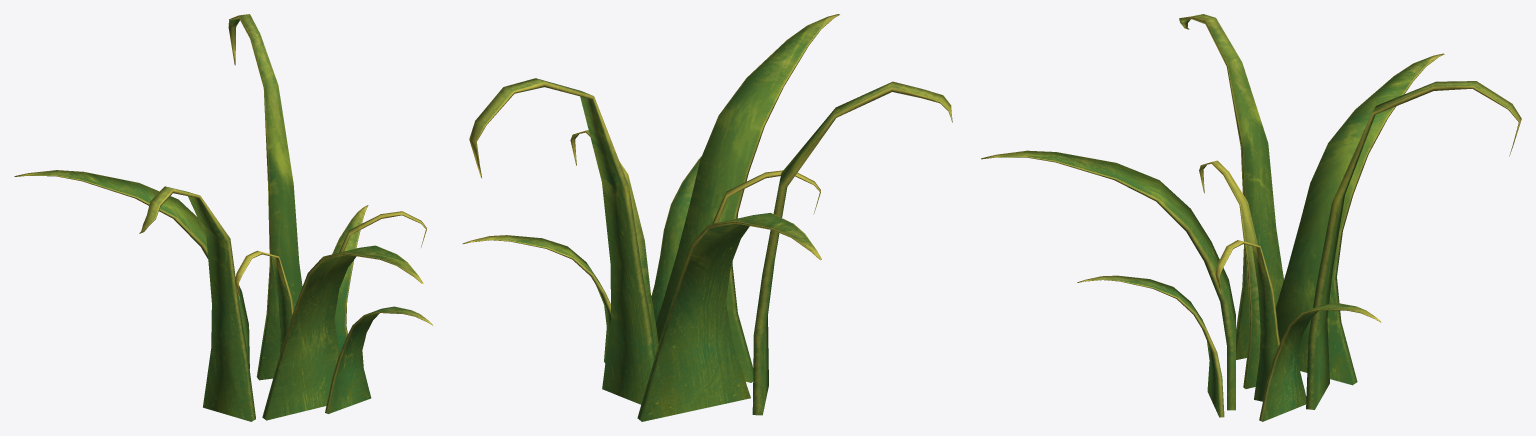
Rendered from Grassthreads.fbx.
The picture shows the model from 3 angles, left to right: view 1: azimuth 30°, elevation 25°; view 2: azimuth 150°, elevation 25°; view 3: azimuth 270°, elevation 25°; orthographic projection. The views are drawn at different scales.
Visible parts, largest first — view 1: Grassthreads; view 2: Grassthreads; view 3: Grassthreads.
Boxes of the visible parts, x1=… form: Grassthreads: x1=14, y1=14, x2=432, y2=421; Grassthreads: x1=462, y1=14, x2=952, y2=421; Grassthreads: x1=981, y1=14, x2=1521, y2=421.
Bounding box in the file's own units: 42.67 × 37.62 × 56.11.
